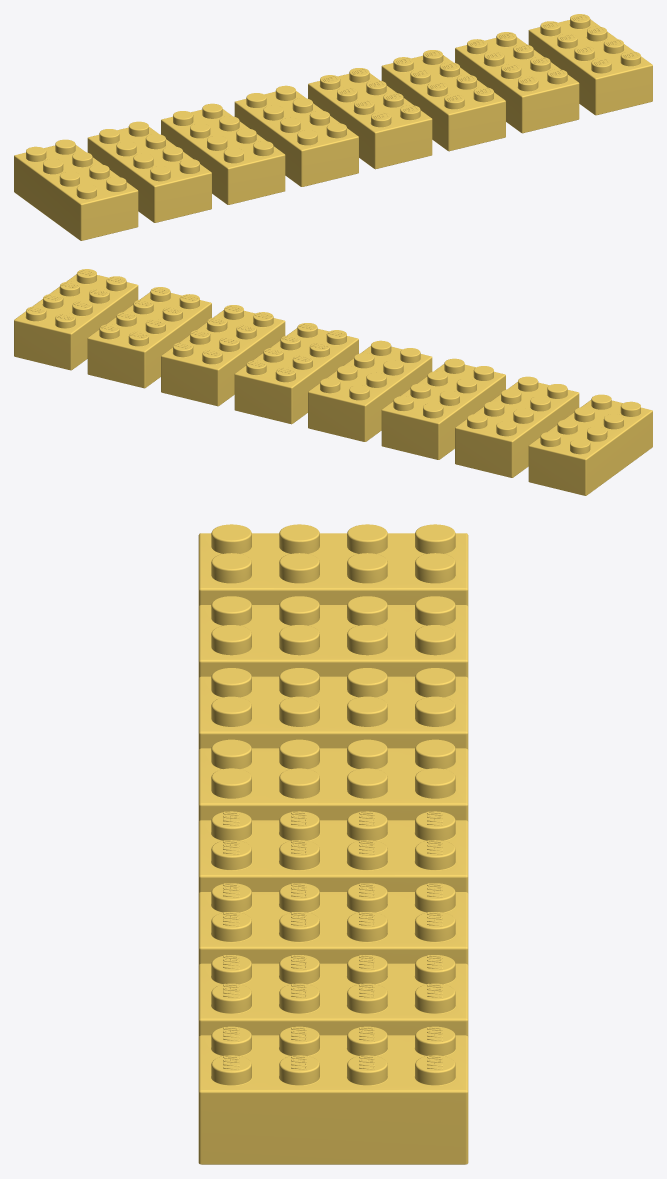
Rendered from Sketchfab.fbx.
3 views of the same model, one above another, from view 1: azimuth 30°, elevation 25°; view 2: azimuth 150°, elevation 25°; view 3: azimuth 270°, elevation 25° (orthographic). The views are drawn at different scales.
Parts seen in each view (by area): view 1: Lego with Bump.004, Lego with Bump.003, Lego with Text.001, Lego with Text, Lego with Bump, Lego with Bump.002, Lego with Text.002, Lego with Text.003; view 2: Lego with Bump.004, Lego with Bump.003, Lego with Text.001, Lego with Text, Lego with Bump, Lego with Bump.002, Lego with Text.002, Lego with Text.003; view 3: Lego with Text, Lego with Bump, Lego with Bump.002, Lego with Text.001, Lego with Text.003, Lego with Bump.004, Lego with Bump.003, Lego with Text.002.
Boxes of the visible parts, x1,y1,x2,y2 form: Lego with Bump.004: (14,139,138,240); Lego with Bump.003: (87,121,211,222); Lego with Text.001: (455,32,579,133); Lego with Text: (528,14,652,115); Lego with Bump: (234,85,358,186); Lego with Bump.002: (161,103,285,204); Lego with Text.002: (381,50,505,151); Lego with Text.003: (308,68,432,169); Lego with Bump.004: (528,394,652,495); Lego with Bump.003: (455,376,579,477); Lego with Text.001: (87,287,211,388); Lego with Text: (14,269,138,370); Lego with Bump: (308,340,432,441); Lego with Bump.002: (381,358,505,459); Lego with Text.002: (161,305,285,406); Lego with Text.003: (234,323,358,424); Lego with Text: (198,1026,468,1164); Lego with Bump: (198,739,468,821); Lego with Bump.002: (198,668,468,749); Lego with Text.001: (198,955,468,1036); Lego with Text.003: (198,811,468,893); Lego with Bump.004: (198,524,468,606); Lego with Bump.003: (198,596,468,678); Lego with Text.002: (198,883,468,965).
Size of the model in its own units: 156 by 11.49 by 31.8.
